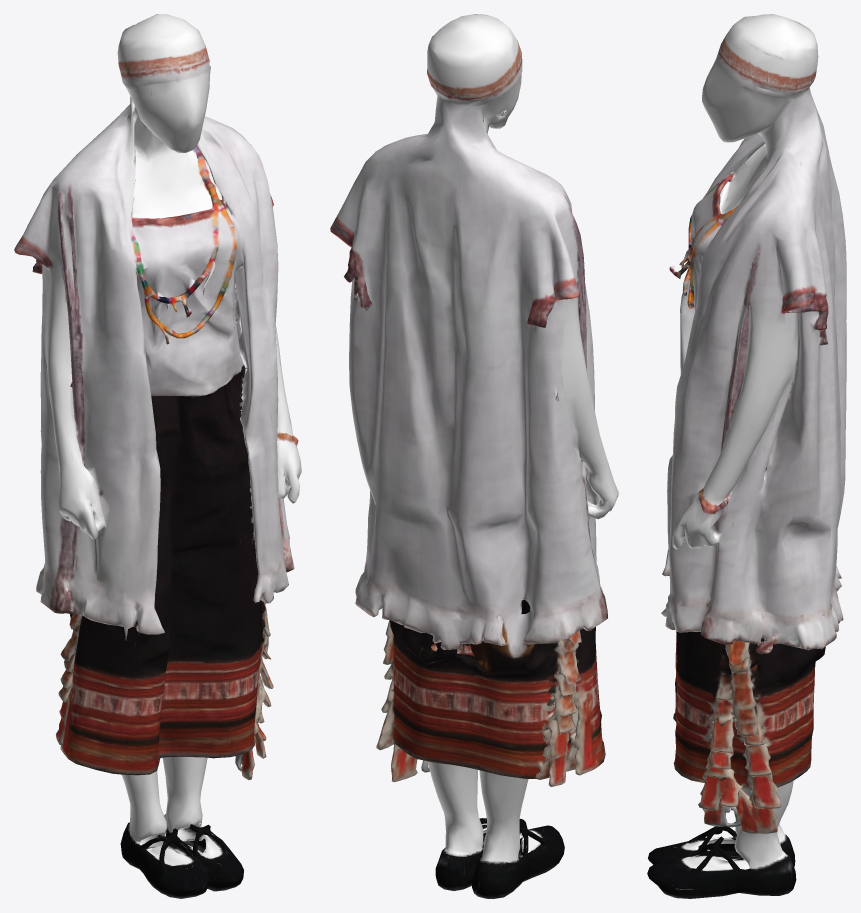
File: X_tieng_nu_00001.glb
3 views of the same model, side by side, from view 1: azimuth 30°, elevation 25°; view 2: azimuth 150°, elevation 25°; view 3: azimuth 270°, elevation 25° (orthographic). The views are drawn at different scales.
Bounding box in the file's own units: 0.296 × 0.9576 × 0.2001.
Materials: 1 (1 with a texture image).
